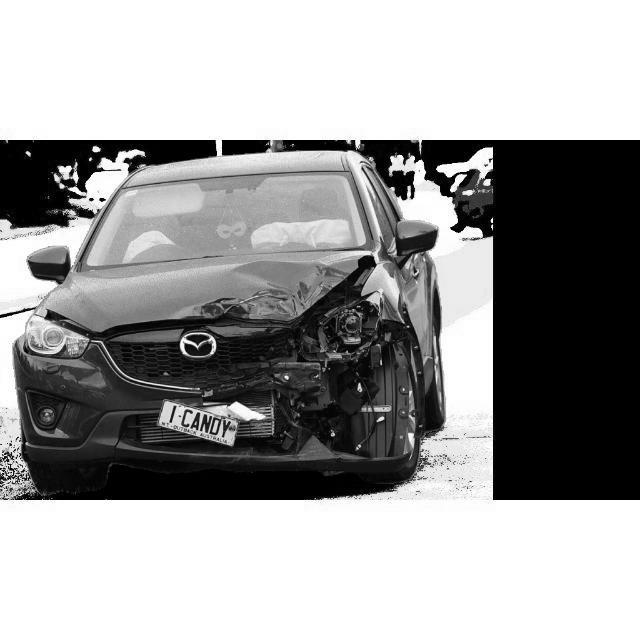Headlight-damage: (304, 290, 382, 362)
bonnet-dent: (188, 251, 371, 330), (50, 268, 180, 335)
front-bumper-dent: (96, 382, 413, 460)
